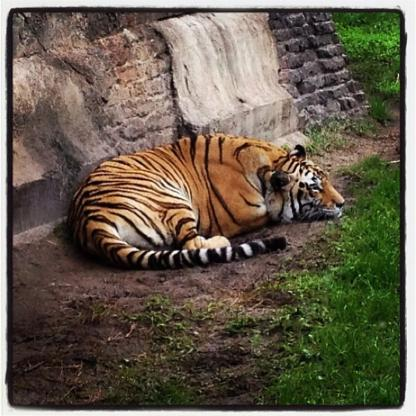Tiger: (66, 130, 345, 270)
